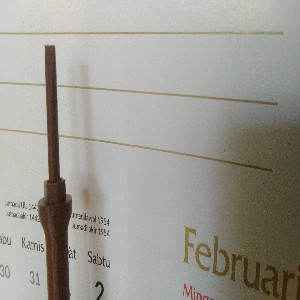obeng: (37, 42, 73, 300)
